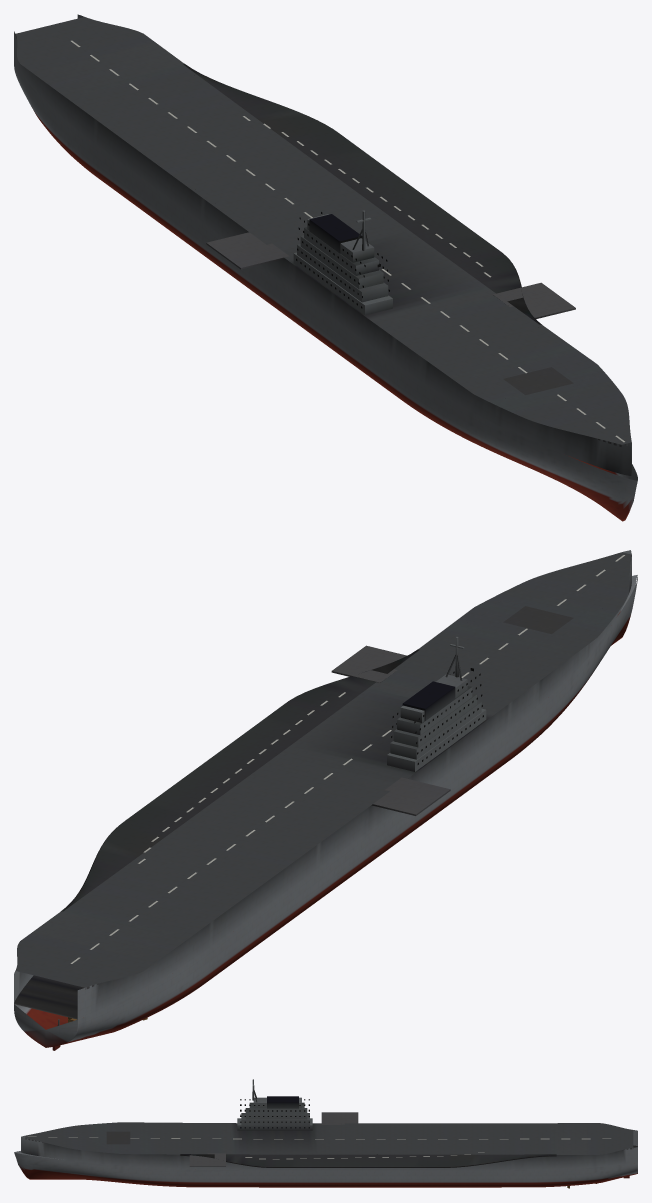
File: model_built.glb
3 renders of one model, top to bottom at view 1: azimuth 30°, elevation 25°; view 2: azimuth 150°, elevation 25°; view 3: azimuth 270°, elevation 25°, orthographic. The views are drawn at different scales.
Parts seen in each view (by area): view 1: main; view 2: main; view 3: main.
Boxes of the visible parts, x1,y1,x2,y2 form: main: [14, 14, 637, 521]; main: [14, 550, 637, 1050]; main: [14, 1079, 637, 1188].
Size of the model in its own units: 56.85 by 42.74 by 274.
1 material, 1 textured.
